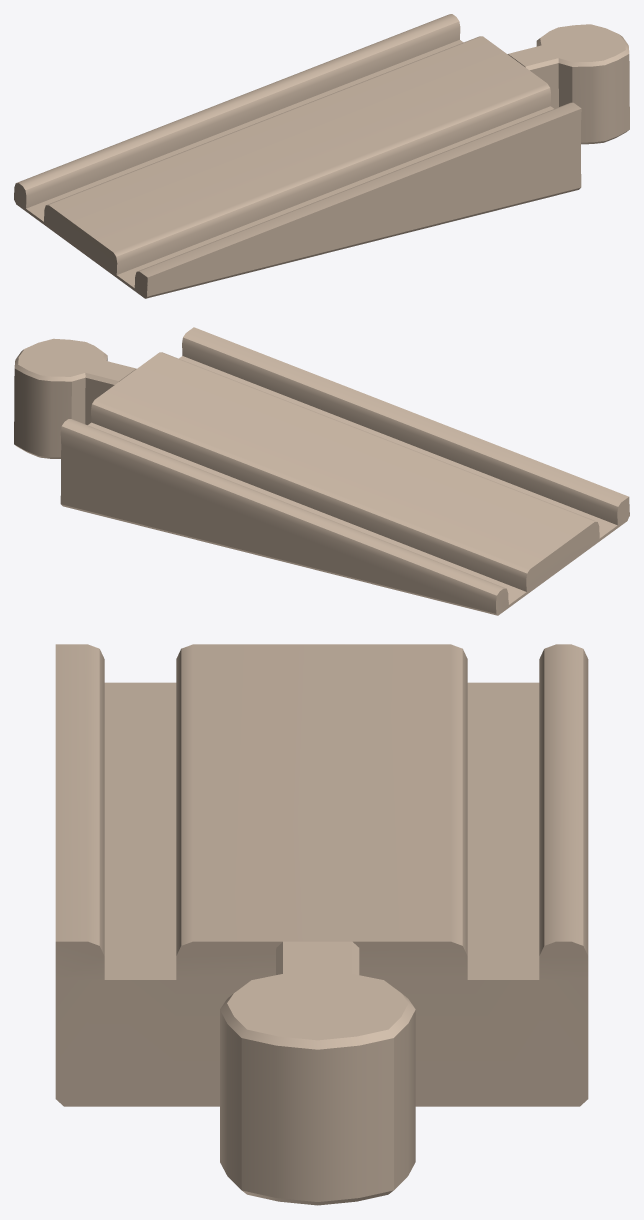
File: train_tracks_wedge.fbx
3 renders of one model, top to bottom at view 1: azimuth 30°, elevation 25°; view 2: azimuth 150°, elevation 25°; view 3: azimuth 270°, elevation 25°, orthographic. The views are drawn at different scales.
Visible parts, largest first — view 1: polySurface1306; view 2: polySurface1306; view 3: polySurface1306.
Part boxes in pixels (x1,y1,x2,y2): polySurface1306: (14,14,629,298); polySurface1306: (14,327,629,615); polySurface1306: (55,644,588,1205).
Bounding box in the file's own units: 4.64 × 0.7123 × 1.98.
